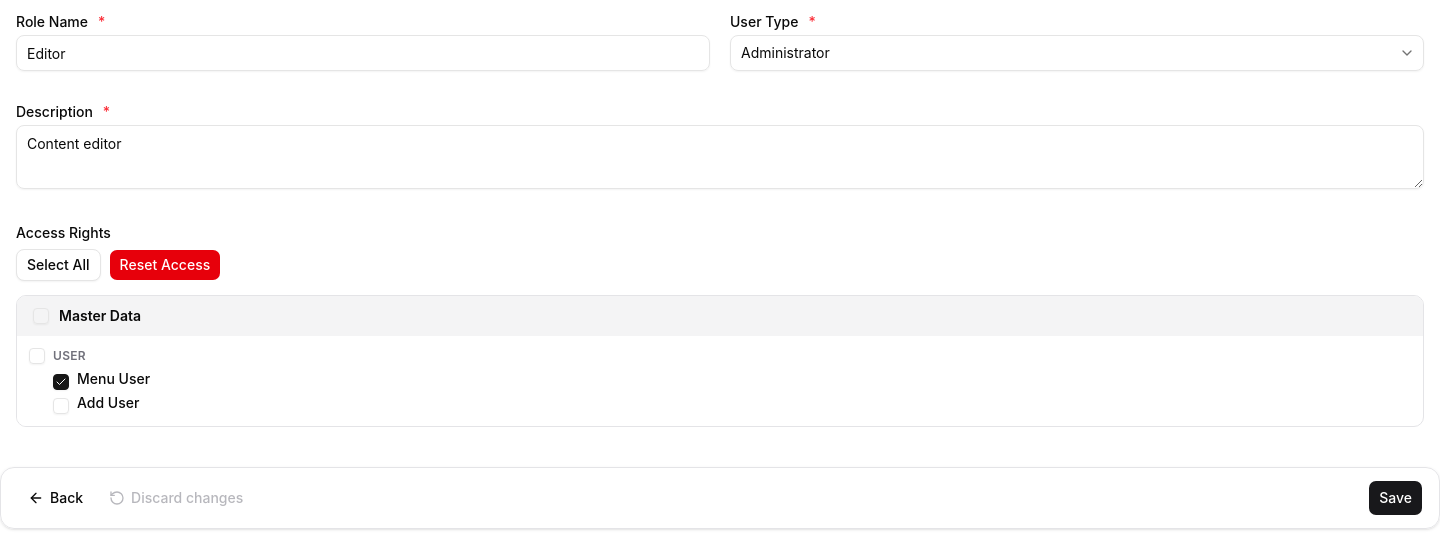
Test case: RoleForm — edit › shows API field errors next to their fields
Click the button "Save".
click(1396, 498)  # box [1368, 480, 1423, 516]
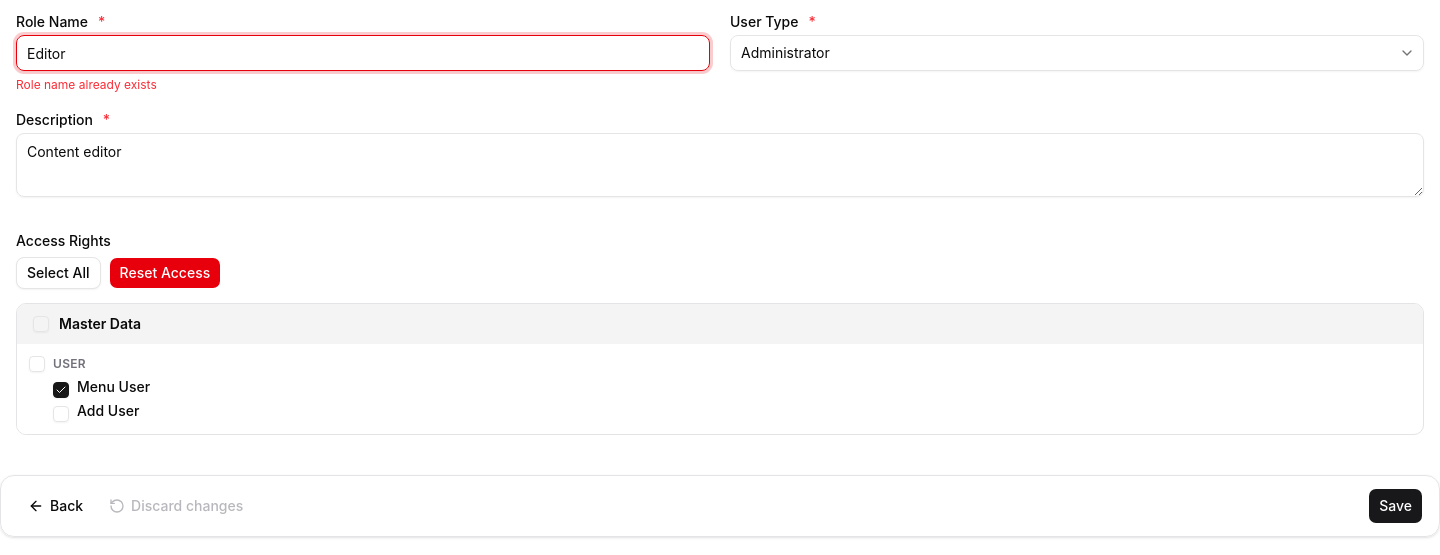
Now the text "Role name already exists" is shown, box [16, 77, 157, 92]
